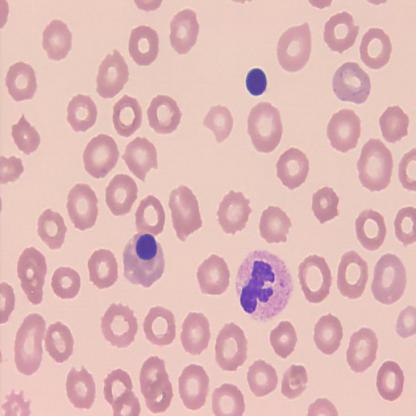NRC: (122, 230, 166, 289), (244, 65, 268, 98)
